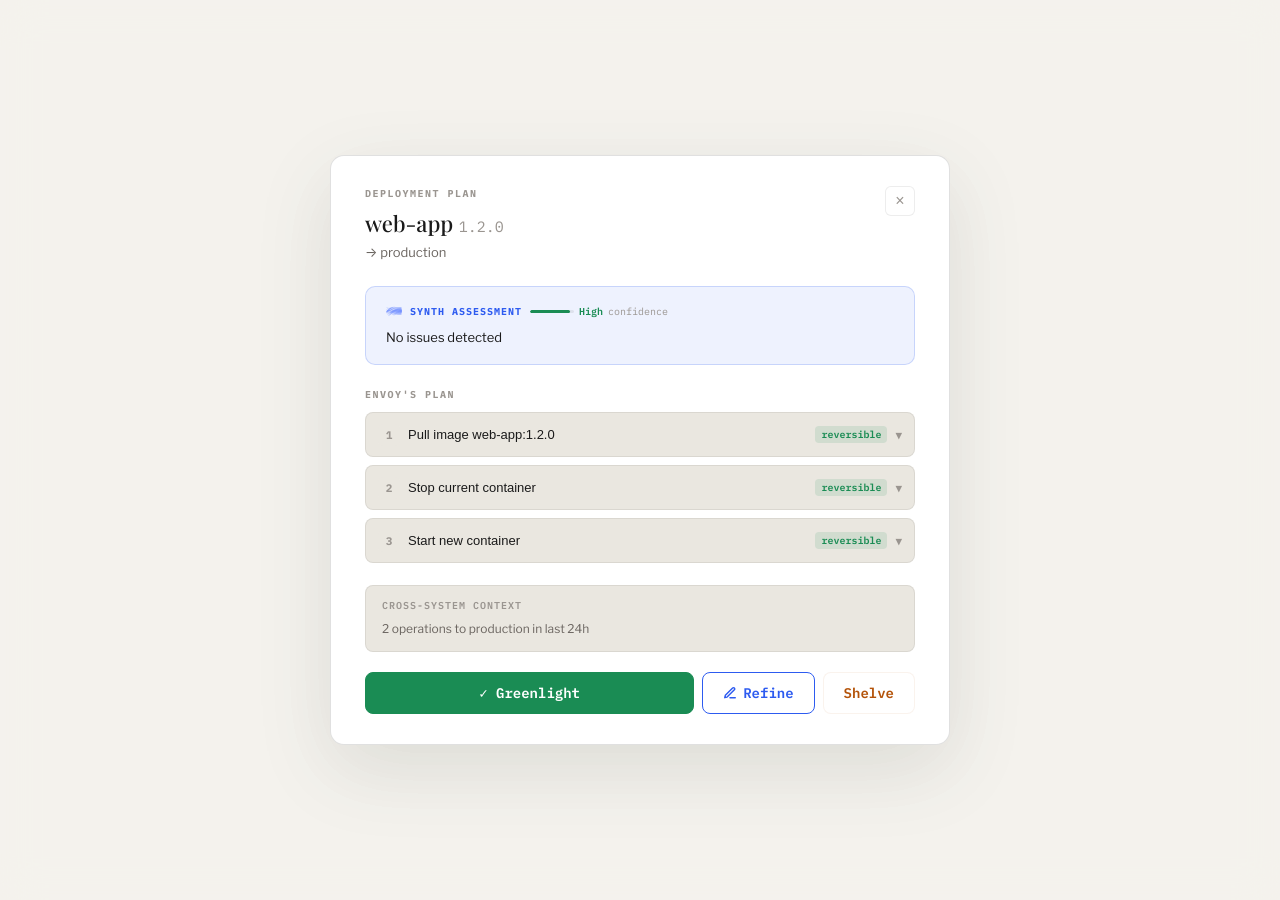
Test case: PlanReviewPanel › greenlight journey › Greenlight API failure shows error message without navigating
Click the button "✓ Greenlight": x=530, y=693 [365, 672, 694, 714]
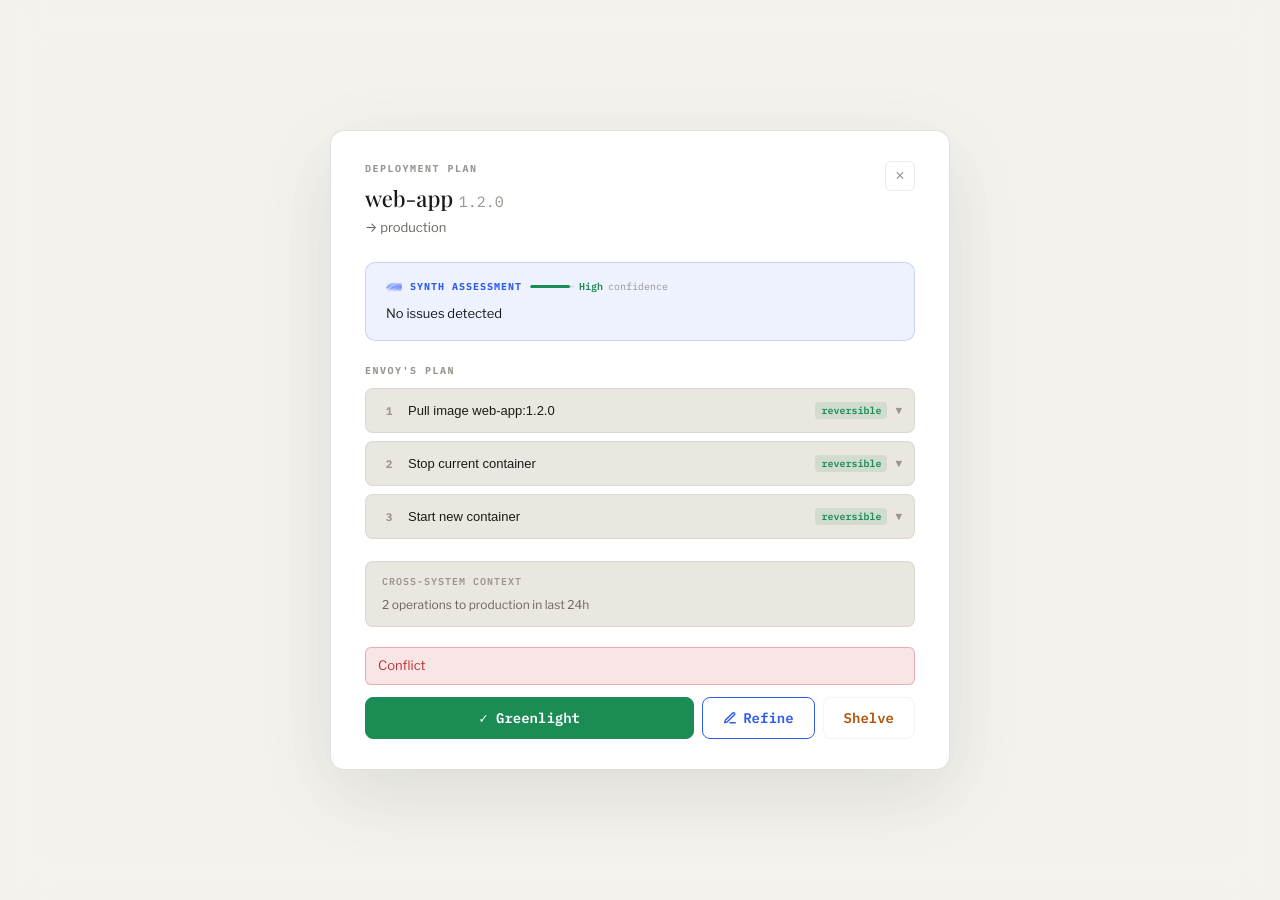
Result: the text "Conflict" is shown at [365, 647, 915, 685]
